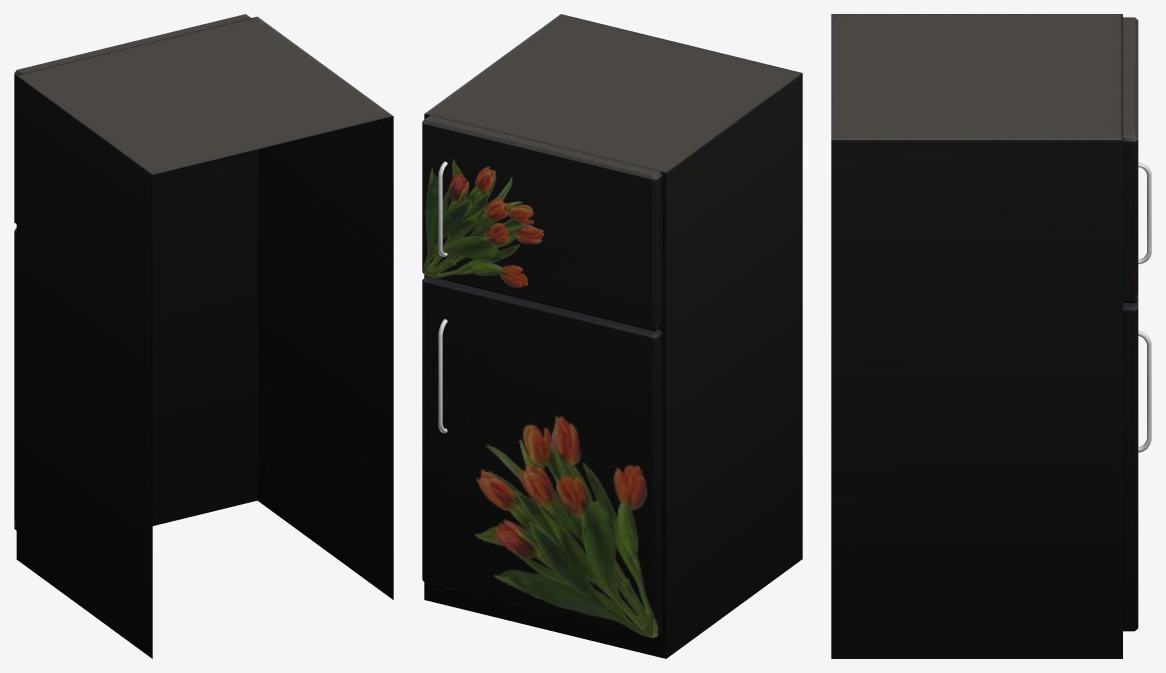
File: M_Kulkas.fbx
3 renders of one model, left to right at view 1: azimuth 30°, elevation 25°; view 2: azimuth 150°, elevation 25°; view 3: azimuth 270°, elevation 25°, orthographic. The views are drawn at different scales.
Visible parts, largest first — view 1: Cube.012; view 2: Cube.012; view 3: Cube.012.
Part boxes in pixels (bbox=[...]): Cube.012: bbox=[14, 14, 393, 658]; Cube.012: bbox=[422, 14, 802, 658]; Cube.012: bbox=[831, 14, 1151, 658].
Size of the model in its own units: 79 by 152 by 84.89.
